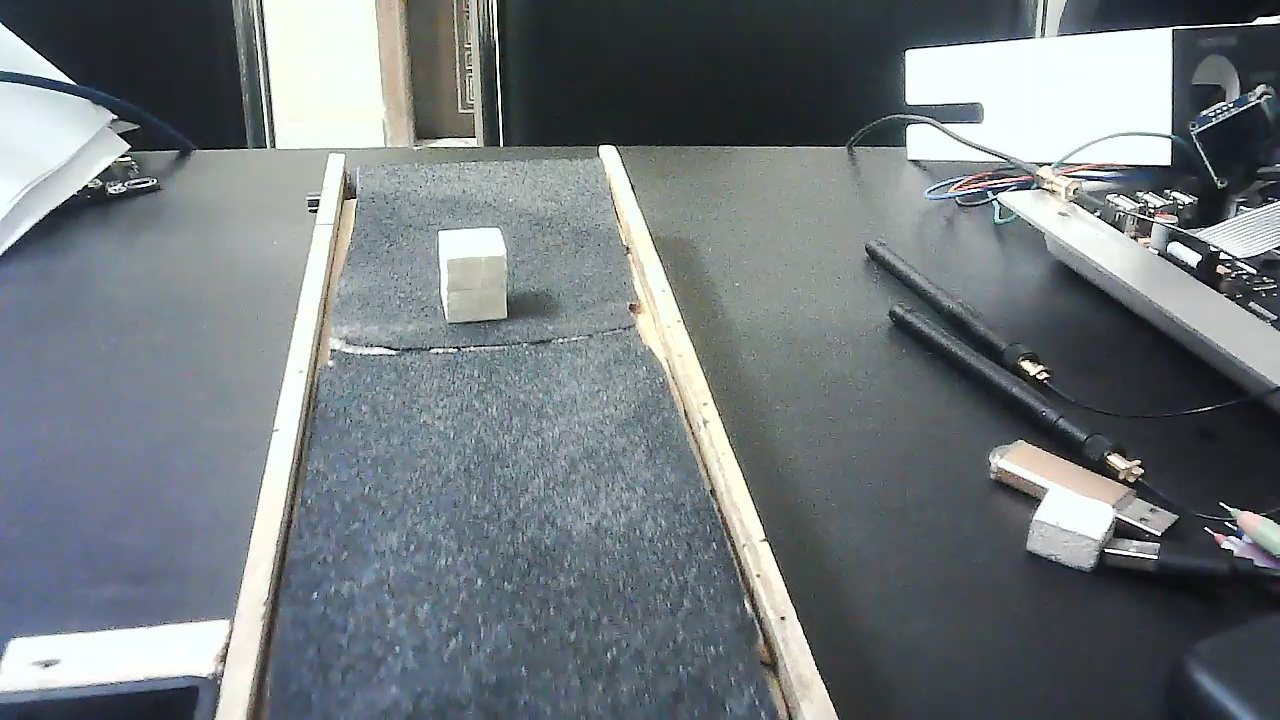Small: (428, 226, 526, 324)
